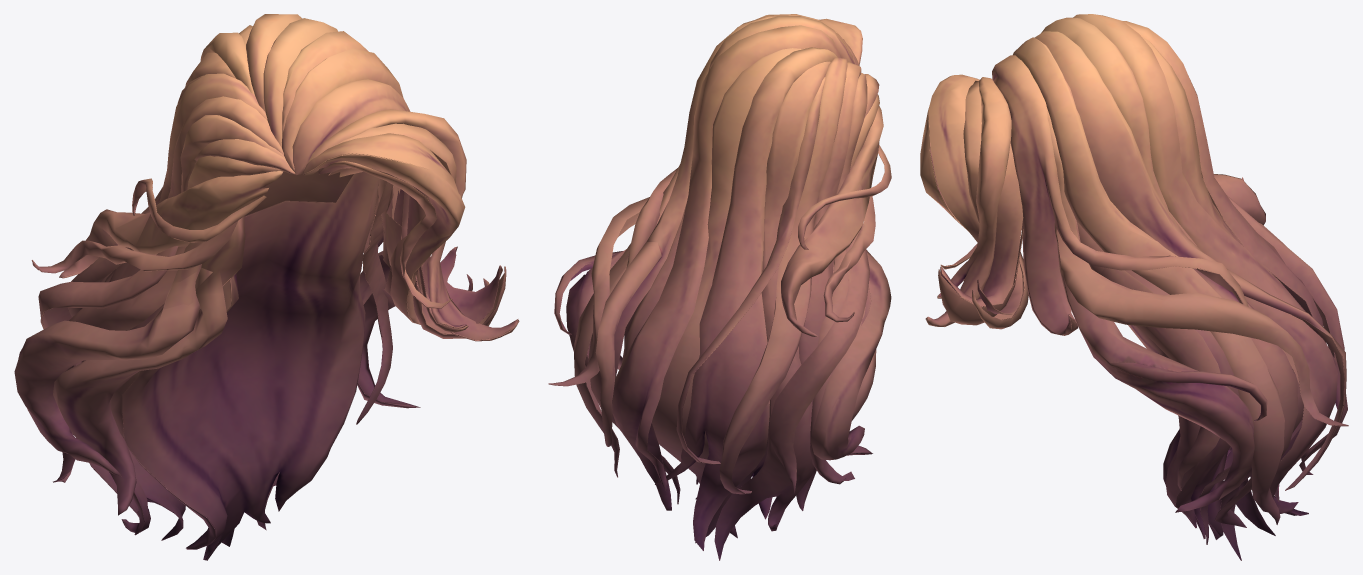
File: hair_07.glb
3 views of the same model, side by side, from view 1: azimuth 30°, elevation 25°; view 2: azimuth 150°, elevation 25°; view 3: azimuth 270°, elevation 25° (orthographic). The views are drawn at different scales.
Visible parts, largest first — view 1: hair-hair_07; view 2: hair-hair_07; view 3: hair-hair_07.
Boxes of the visible parts, box(x1,y1,x2,y2) form: hair-hair_07: box(14, 14, 519, 560); hair-hair_07: box(548, 14, 891, 560); hair-hair_07: box(920, 14, 1348, 560).
Size of the model in its own units: 0.4057 by 0.6069 by 0.4474.
Materials: 1 (1 with a texture image).
